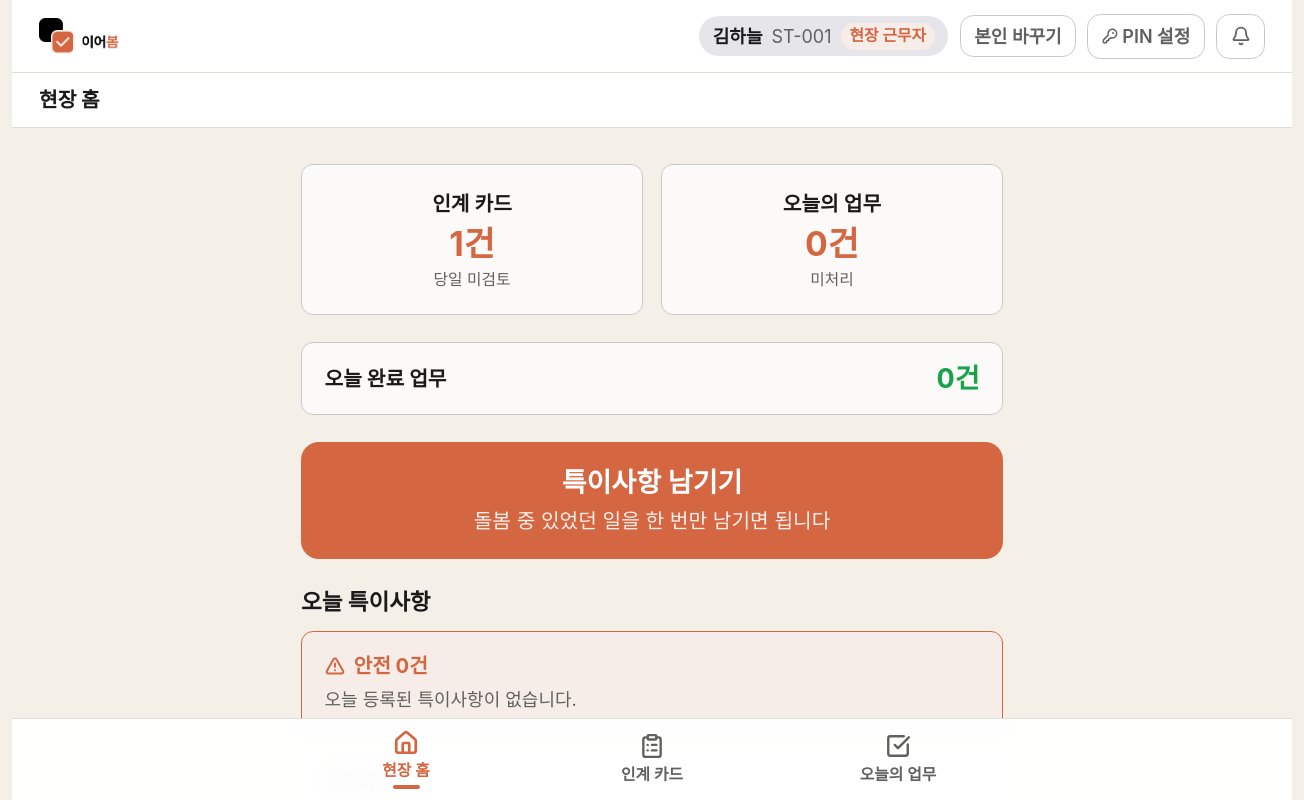
인계 카드 목록 (n18 · n19) › 현장 홈에서 들어올 수 있다
The image size is (1304, 800).
Click the button "인계 카드 1건 당일 미검토" at (472, 239), box [301, 164, 643, 314]
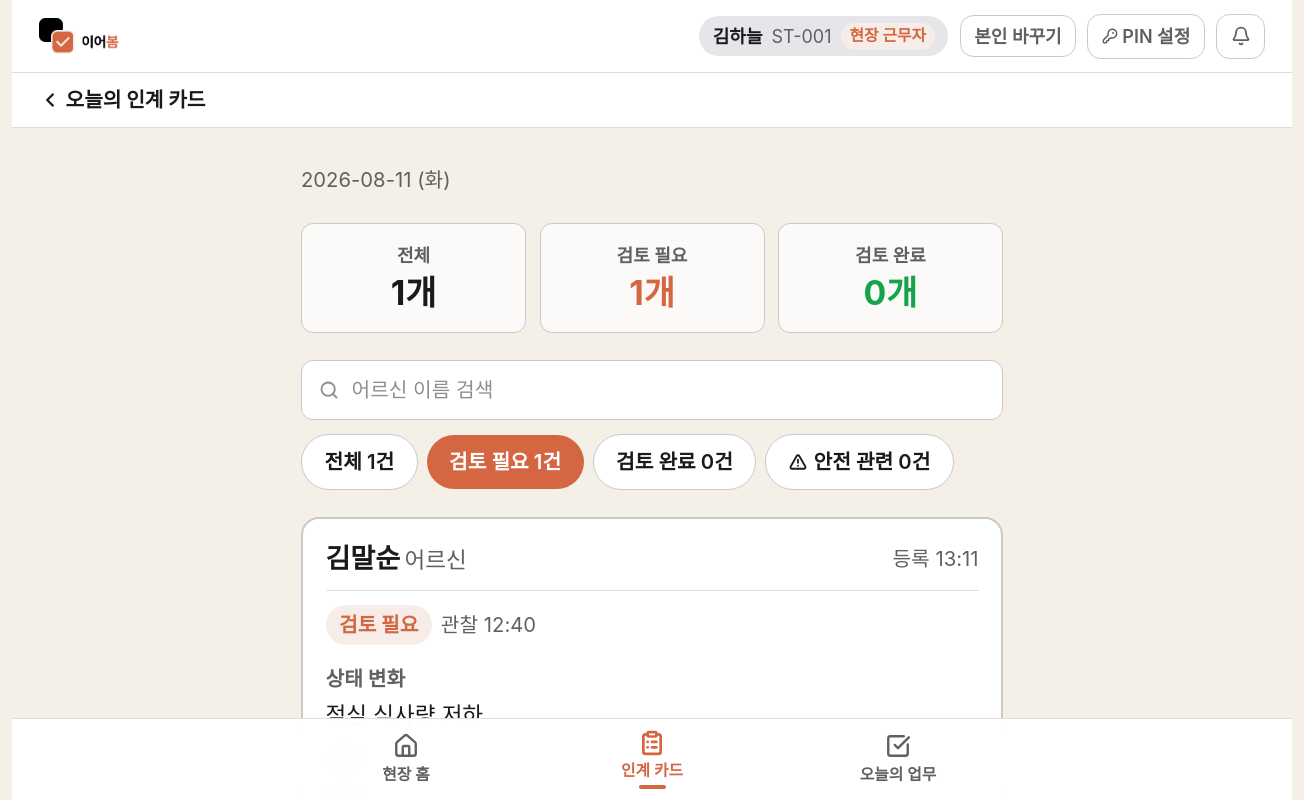
Expected: the text "오늘의 인계 카드" is shown, [66, 84, 206, 116]
